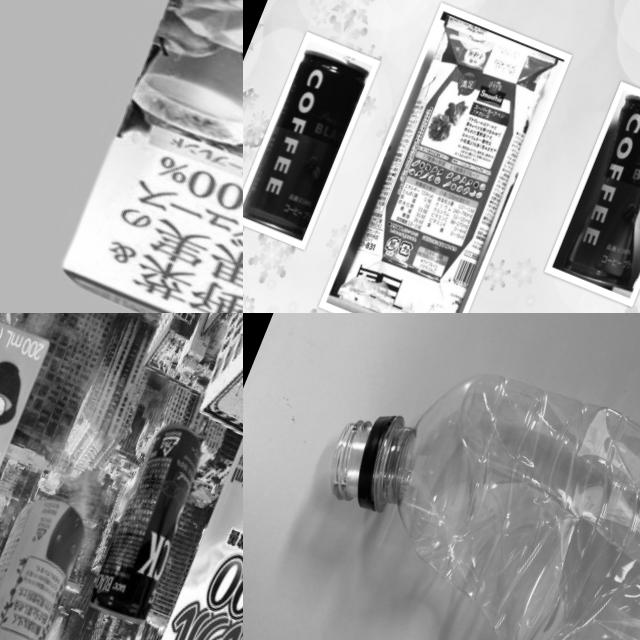Aluminium Foil: (328, 12, 566, 313), (48, 0, 243, 313), (93, 428, 243, 640), (0, 313, 60, 640)
Can: (80, 422, 220, 630), (243, 44, 368, 240), (552, 90, 640, 301), (0, 483, 103, 640)
Transparent Plastic Bottle: (273, 313, 640, 640)
